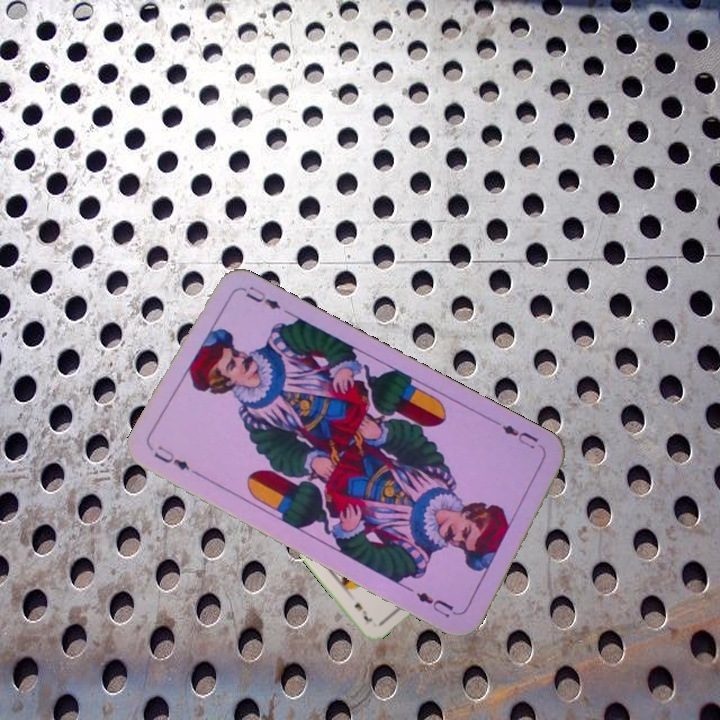EU: (498, 420, 546, 452), (149, 441, 193, 474)
